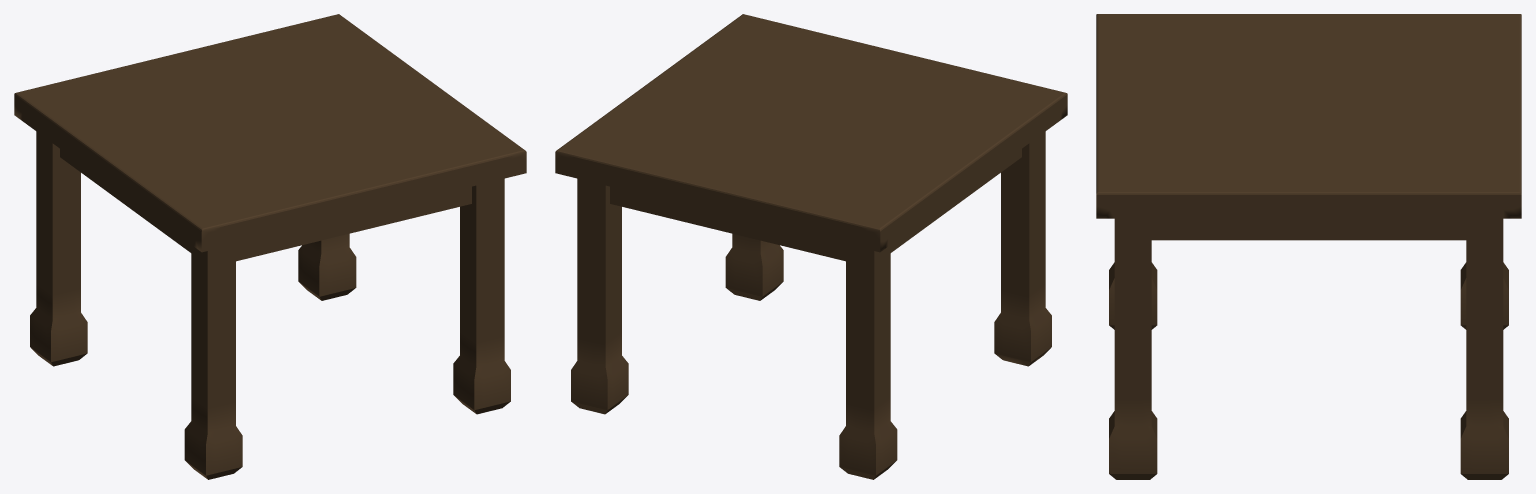
The model's file is table3.fbx.
3 renders of one model, left to right at view 1: azimuth 30°, elevation 25°; view 2: azimuth 150°, elevation 25°; view 3: azimuth 270°, elevation 25°, orthographic. The views are drawn at different scales.
Parts seen in each view (by area): view 1: Table3; view 2: Table3; view 3: Table3.
Part boxes in pixels (x1,y1,x2,y2): Table3: (14, 14, 526, 479); Table3: (555, 14, 1067, 479); Table3: (1096, 14, 1521, 479).
Size of the model in its own units: 97.3 by 74.55 by 97.3.
